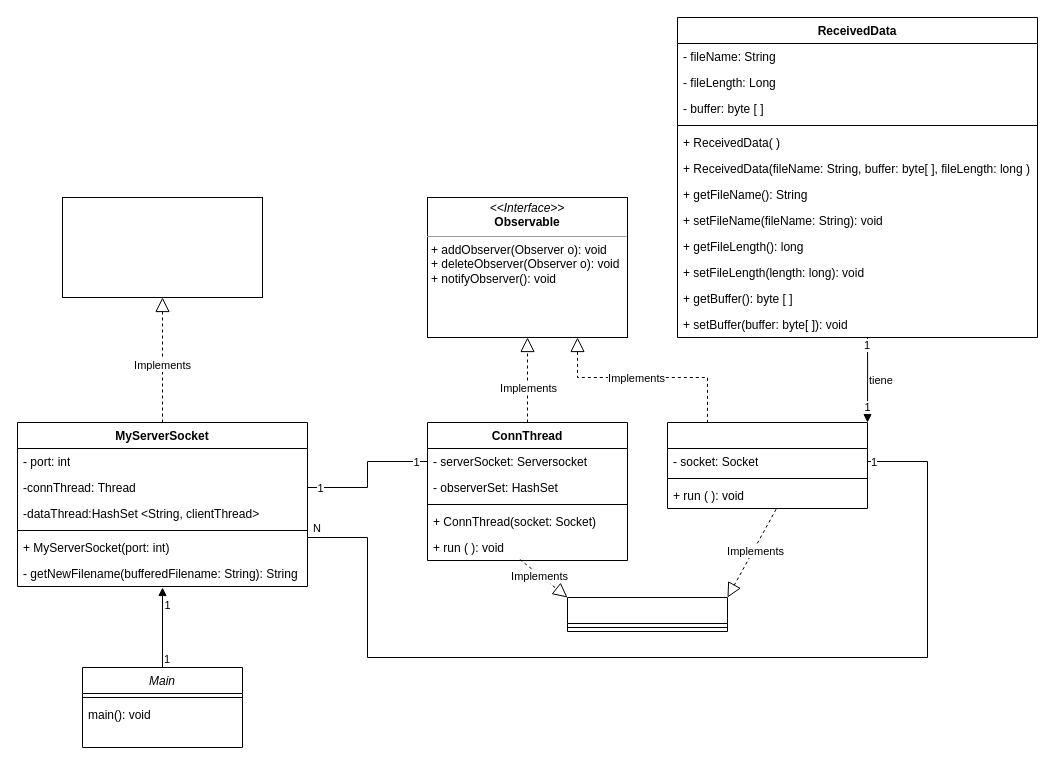
Image size: 1055x765. Some labels were removed from this diagram. Each missing label, with the box of its shape:
<<Interface>> Observer + on(String event, Object data): void: (62, 196, 262, 298)
dataThread: (666, 422, 868, 508)
Thread: (566, 596, 728, 632)
